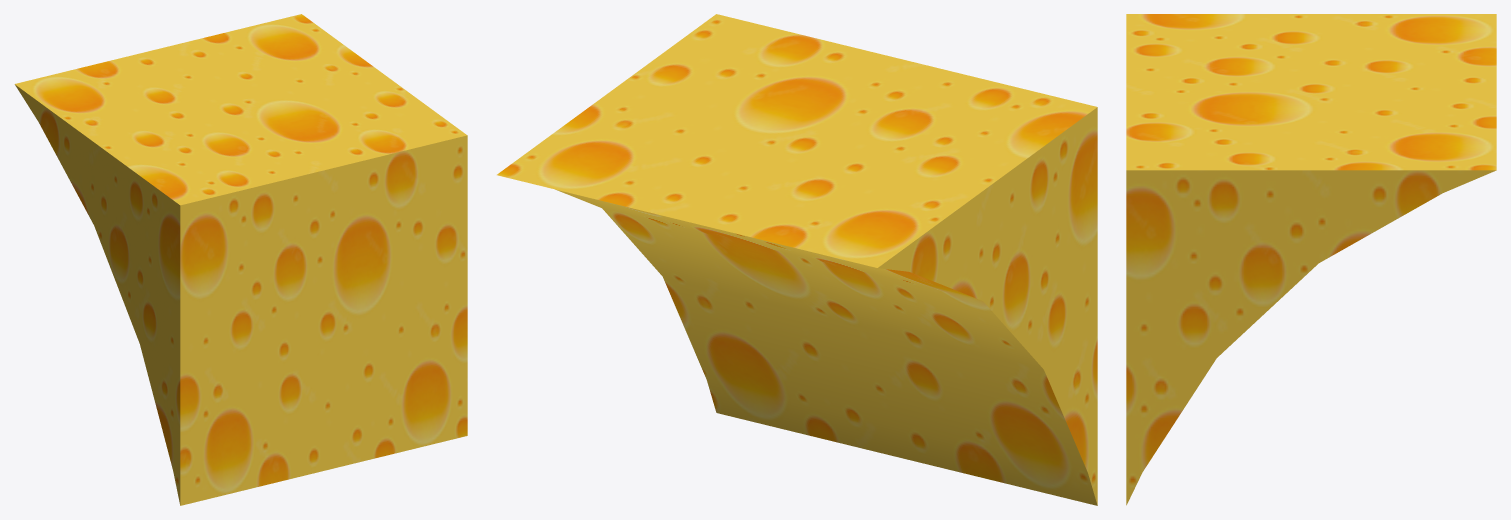
File: POL0310007.fbx
The picture shows the model from 3 angles, left to right: view 1: azimuth 30°, elevation 25°; view 2: azimuth 150°, elevation 25°; view 3: azimuth 270°, elevation 25°; orthographic projection. The views are drawn at different scales.
Parts seen in each view (by area): view 1: smPOL0310007; view 2: smPOL0310007; view 3: smPOL0310007.
Boxes of the visible parts, x1,y1,x2,y2 form: smPOL0310007: (14,14,467,505); smPOL0310007: (497,14,1097,505); smPOL0310007: (1126,14,1496,505).
Size of the model in its own units: 161 by 161 by 161.
1 material, 1 textured.
